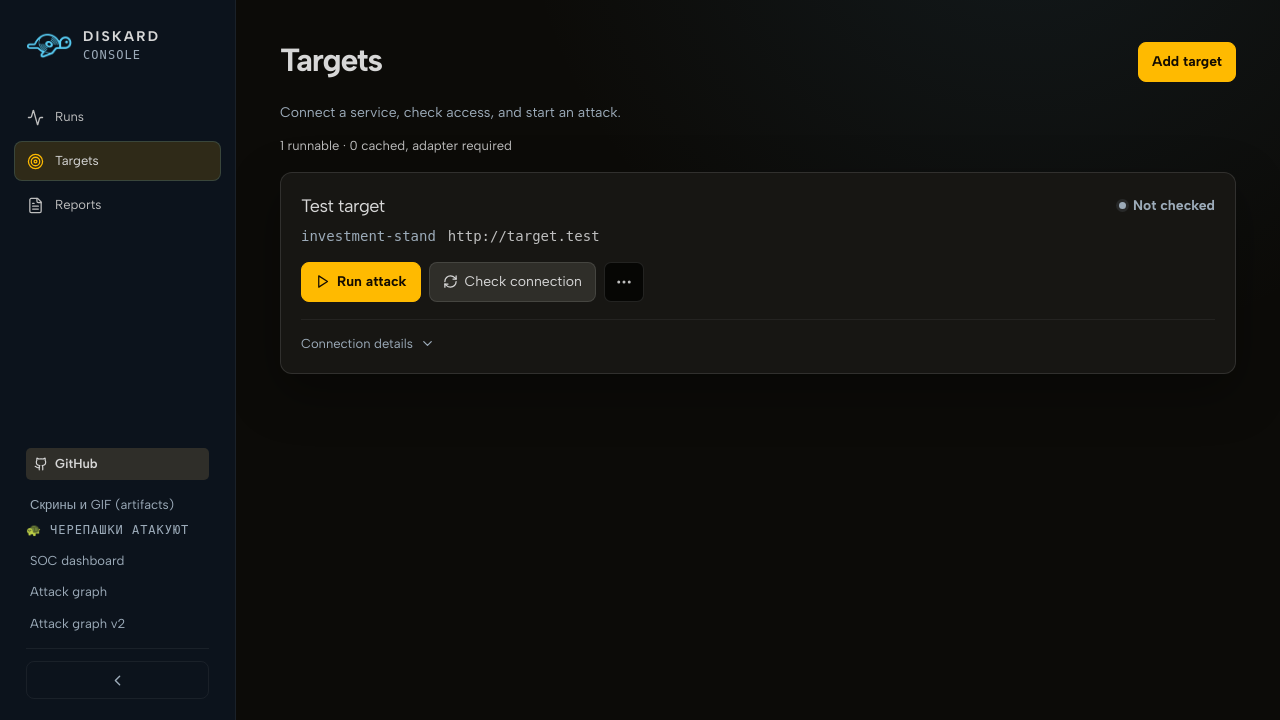
operator journey using actual API shapes › keeps target configuration secondary and exposes the operational path
The image size is (1280, 720).
Expected: the heading "Test target" is shown, [301,195,385,217]
Expected: the text "Not checked" is shown, [1119,193,1215,216]
Click the heading "Connection details" at point(368, 344), box [301,336,435,351]
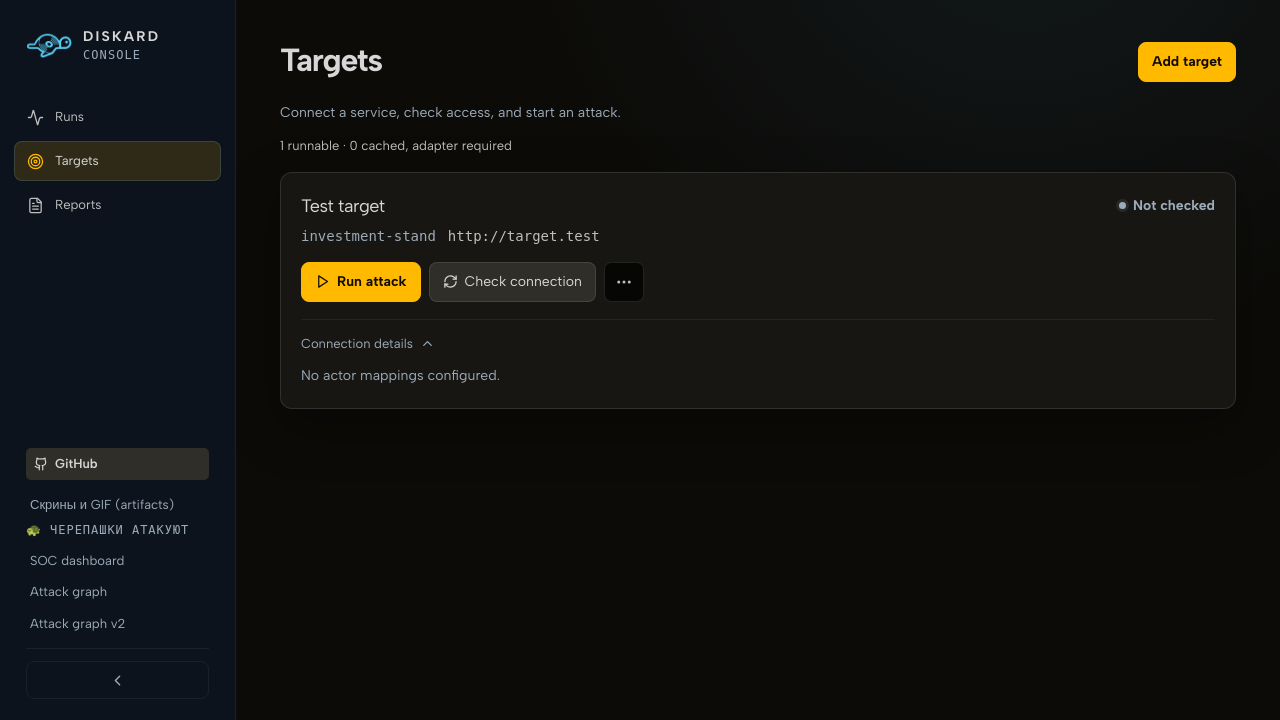
Expected: the text "Connection details" has attribute open, [301,319,1215,388]
Click the button "Check connection" at point(512, 282), box [429,262,596,302]
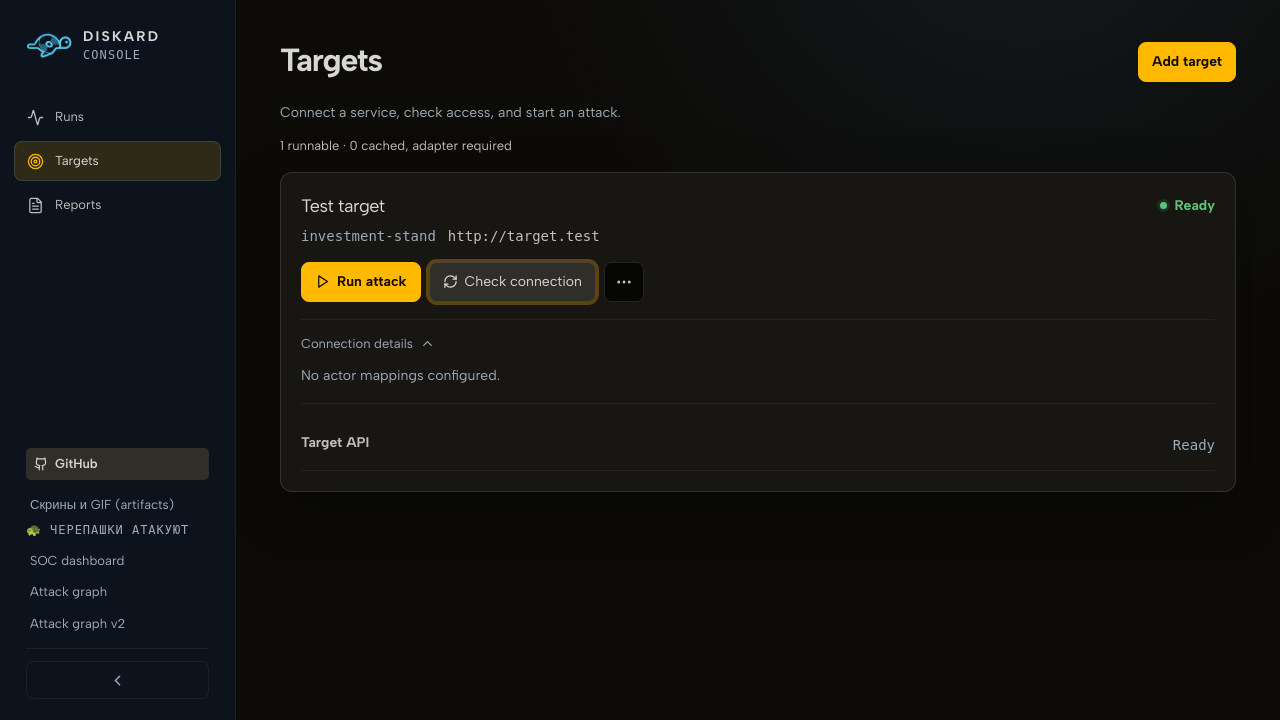
Expected: the text "Not checked" reads "Ready", [1174,197,1215,214]
